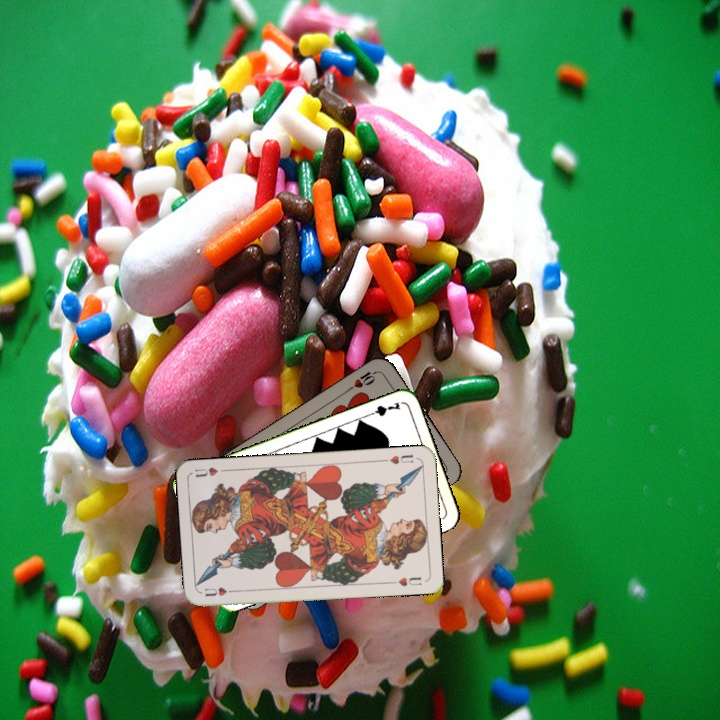G7: (363, 398, 403, 419)
H10: (344, 367, 381, 393)
HU: (379, 450, 416, 467), (201, 583, 239, 599)
